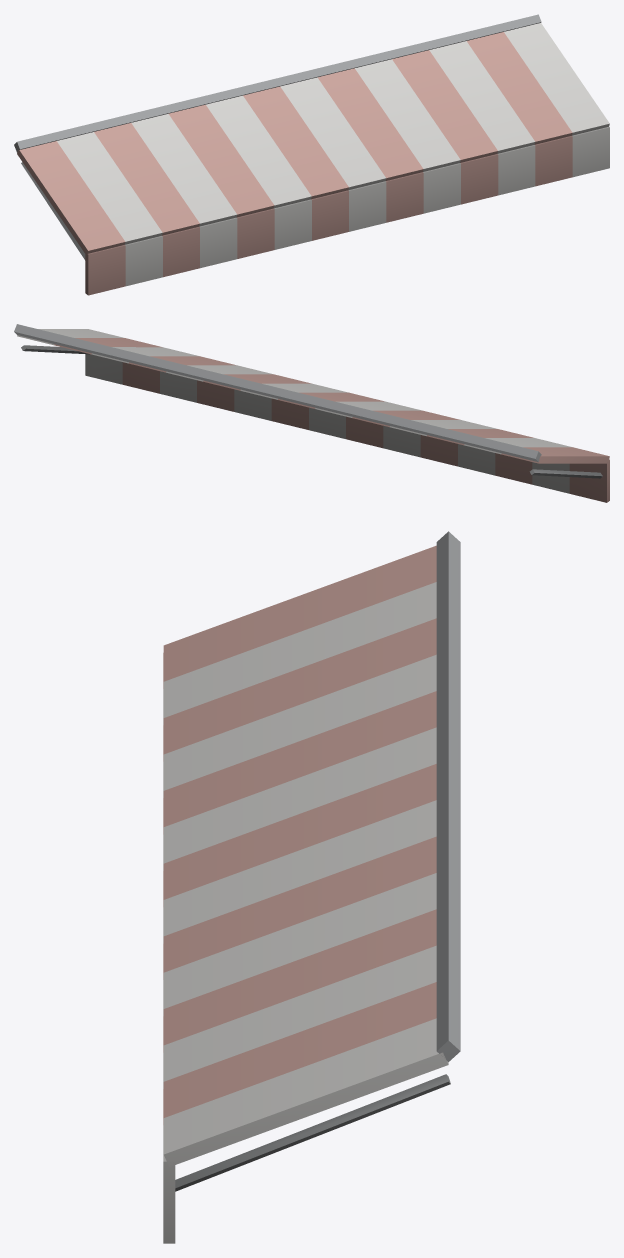
Rendered from awning.glb.
3 renders of one model, top to bottom at view 1: azimuth 30°, elevation 25°; view 2: azimuth 150°, elevation 25°; view 3: azimuth 270°, elevation 25°, orthographic. The views are drawn at different scales.
Bounding box in the file's own units: 4 × 0.7446 × 0.9872.
